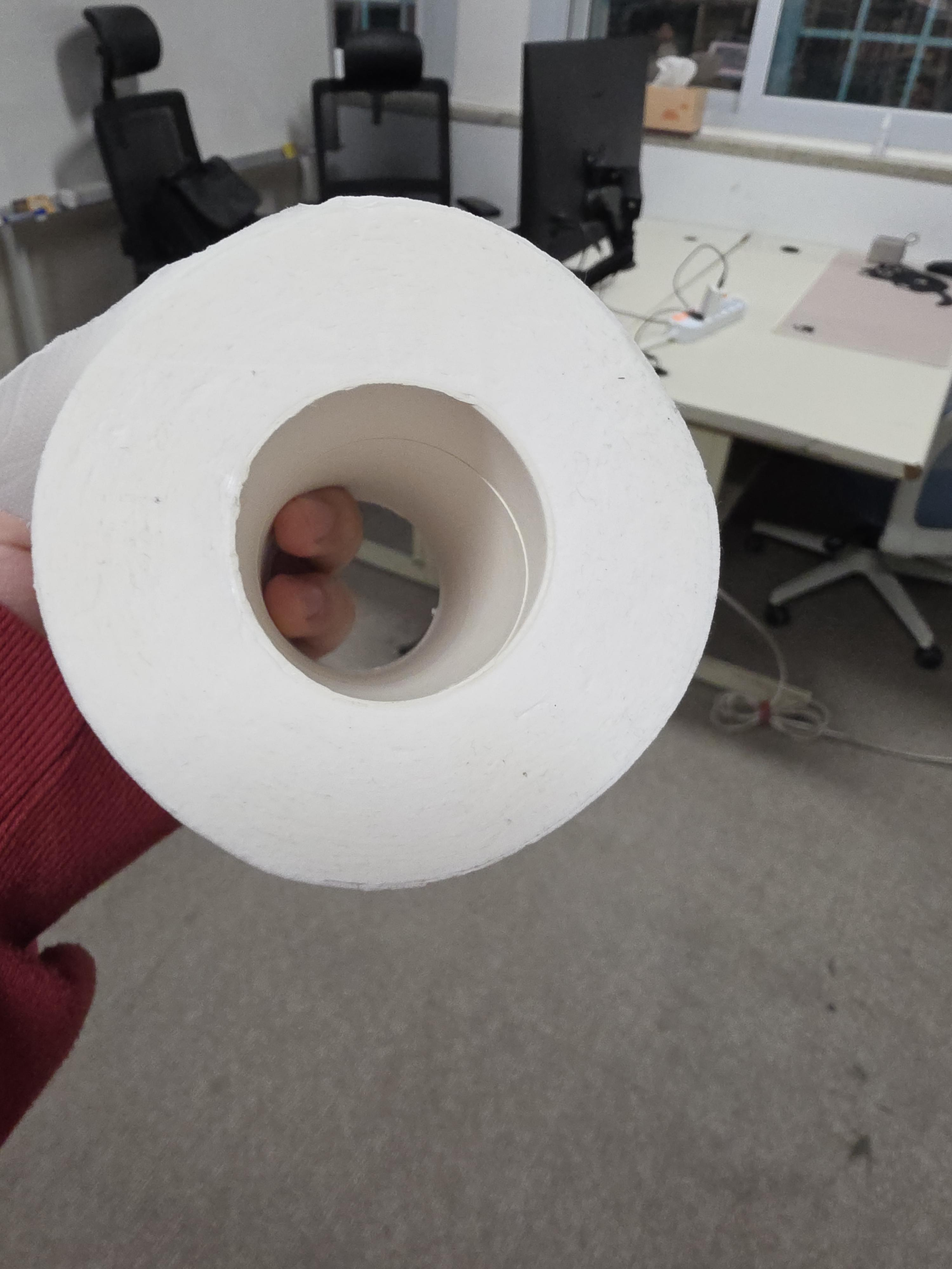tissue: (0, 195, 722, 891), (643, 56, 707, 136)
